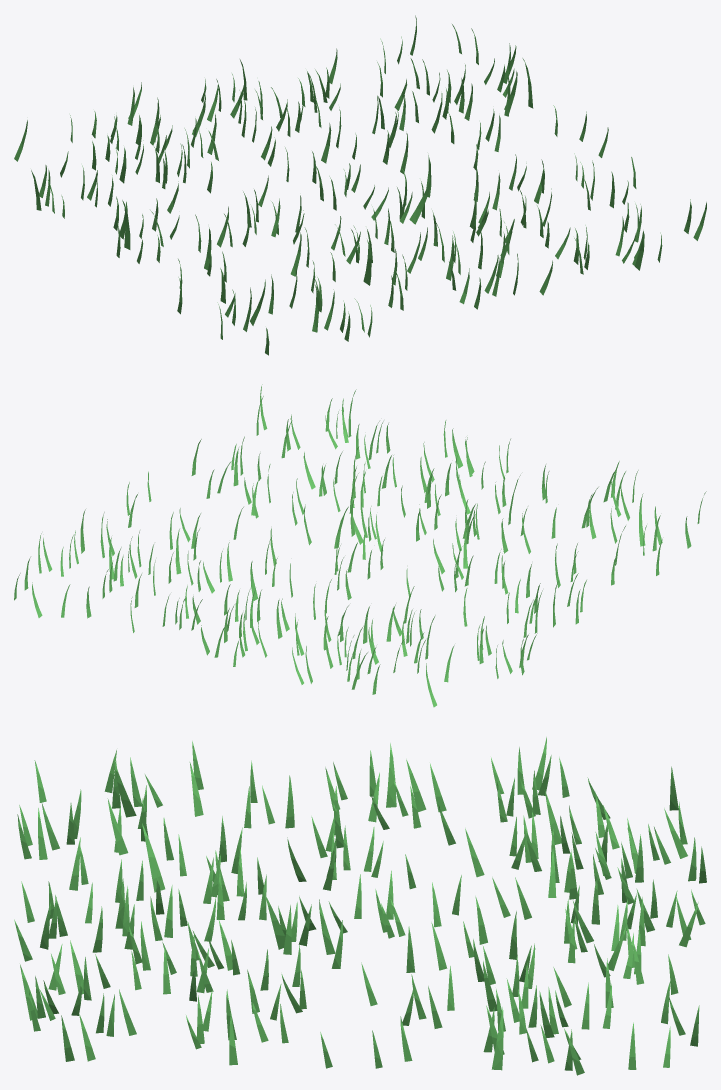
File: Grass Chunk.fbx
3 renders of one model, top to bottom at view 1: azimuth 30°, elevation 25°; view 2: azimuth 150°, elevation 25°; view 3: azimuth 270°, elevation 25°, orthographic. The views are drawn at different scales.
Visible parts, largest first — view 1: E; view 2: E; view 3: E.
Boxes of the visible parts, x1,y1,x2,y2 form: E: (14, 15, 706, 355); E: (14, 384, 706, 707); E: (14, 737, 706, 1075).
Bounding box in the file's own units: 203 × 21.32 × 205.
